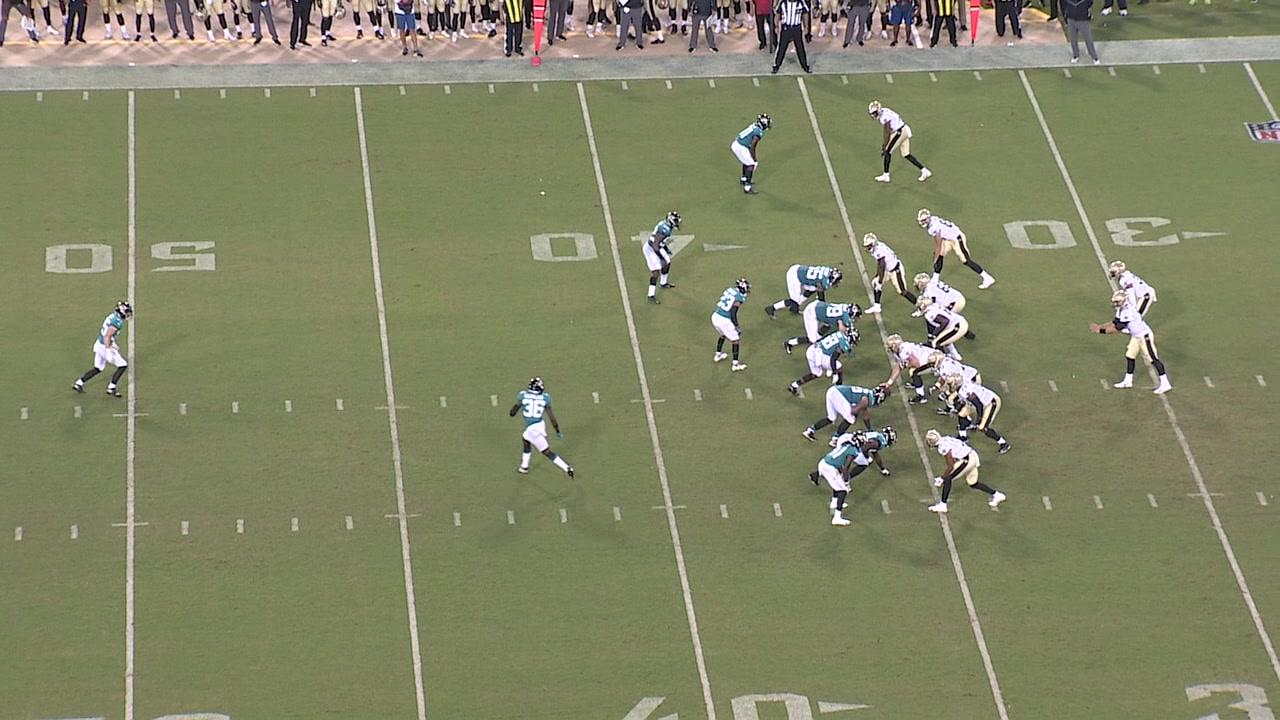five_hash: (628, 396, 666, 407), (373, 403, 413, 413), (383, 511, 424, 520), (111, 411, 151, 420), (1185, 490, 1225, 499), (110, 522, 152, 530), (649, 503, 691, 511)
hash: (445, 507, 468, 531), (173, 516, 195, 539), (338, 511, 359, 535), (502, 504, 522, 529), (1142, 488, 1163, 511), (331, 394, 351, 417), (231, 516, 249, 539), (767, 499, 787, 519), (606, 503, 625, 524), (14, 404, 33, 424), (63, 522, 82, 542), (1037, 493, 1056, 513), (687, 387, 708, 405), (70, 402, 87, 424), (280, 396, 298, 416), (484, 391, 502, 411), (877, 498, 895, 518), (1089, 491, 1107, 511), (434, 392, 451, 413), (588, 388, 605, 409), (287, 514, 304, 535), (717, 500, 734, 521), (1250, 372, 1271, 389), (1253, 488, 1270, 509), (9, 524, 26, 544), (557, 505, 572, 527), (228, 399, 245, 418), (1045, 378, 1064, 395), (1096, 375, 1113, 393), (1199, 373, 1216, 391), (741, 385, 757, 403), (997, 377, 1012, 395), (177, 402, 189, 418)
number: (998, 211, 1185, 259), (41, 236, 225, 281)
